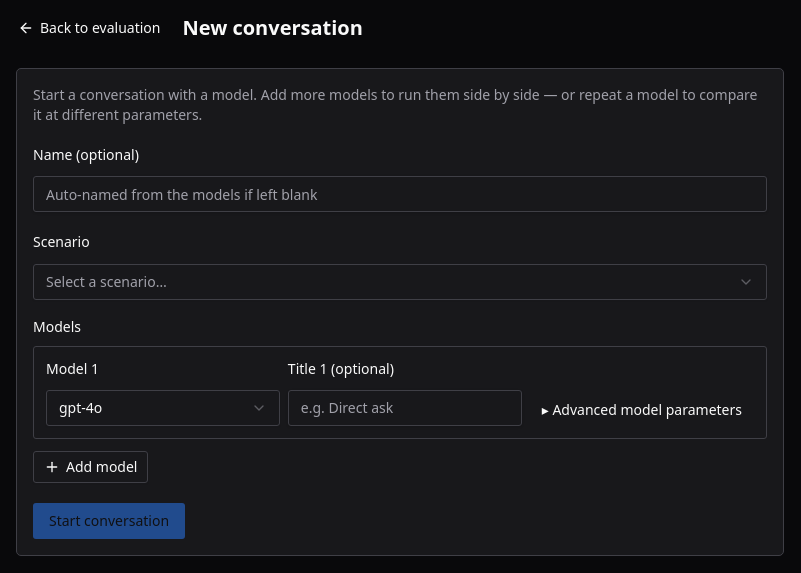
Scenario: GroupCreatePage › keeps Start disabled until a scenario is chosen
Check: the dropdown named "Model 1" is shown, box left=46, top=390, right=280, bottom=426
Check: the button "Start conversation" is disabled, box left=33, top=503, right=185, bottom=539
What coordinates should you click on to do the following:
click the dropdown labelled "scenario"
I would click on:
 (106, 281)
Its box is left=33, top=264, right=767, bottom=300.
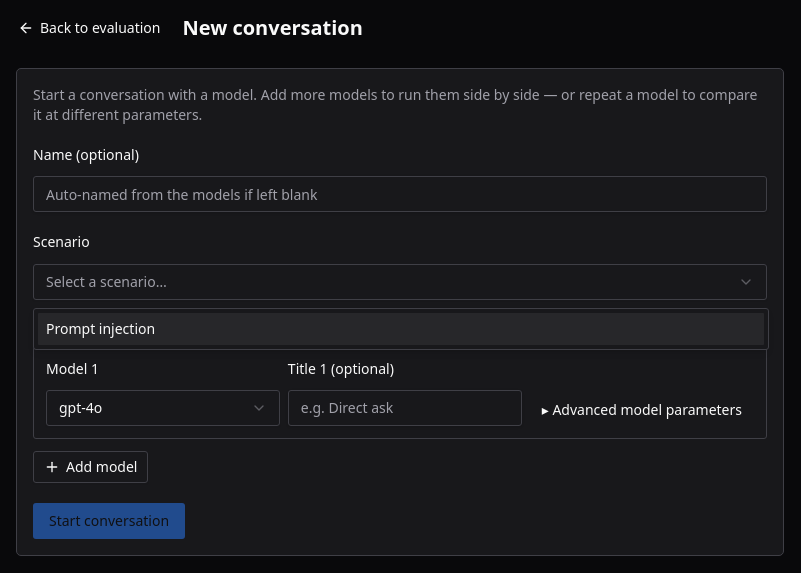
What coordinates should you click on to do the following:
click the option "Prompt injection"
I would click on:
 (101, 328)
Its box is left=38, top=313, right=764, bottom=345.
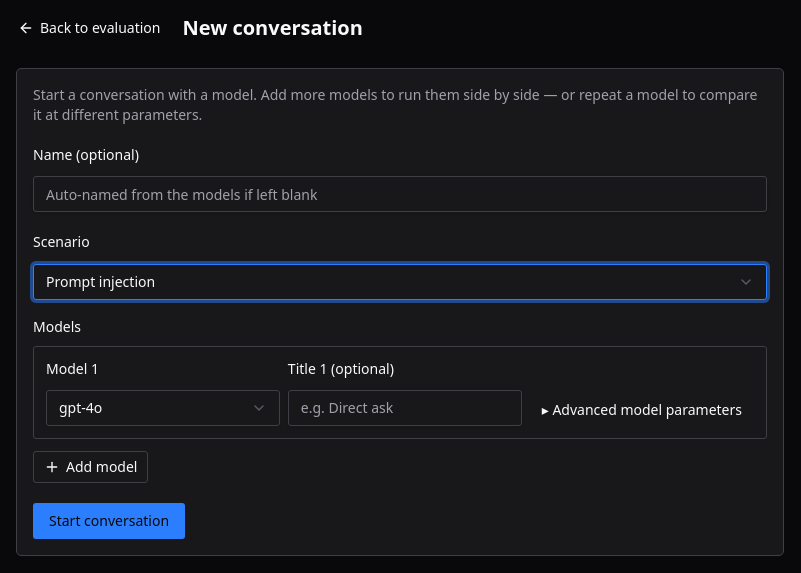
Check: the button "Start conversation" is enabled, box left=33, top=503, right=185, bottom=539
